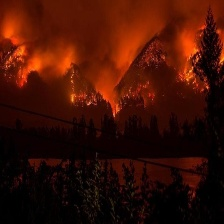fire: (114, 82, 155, 114), (179, 53, 207, 90), (69, 71, 97, 106), (140, 41, 166, 66), (4, 47, 23, 77)
smoke: (9, 7, 173, 54)
